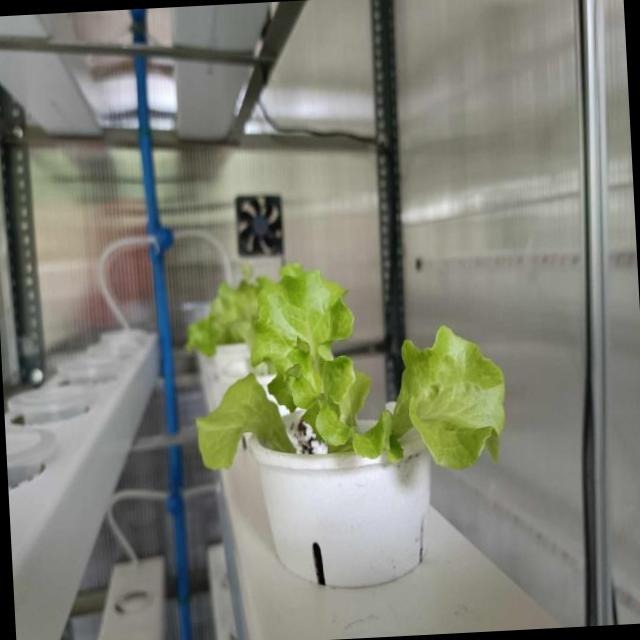Lettuce-Not-Ready-to-Harvest: (182, 320, 520, 489)
Lettuce-Ready-to-Harvest: (252, 260, 358, 362)
